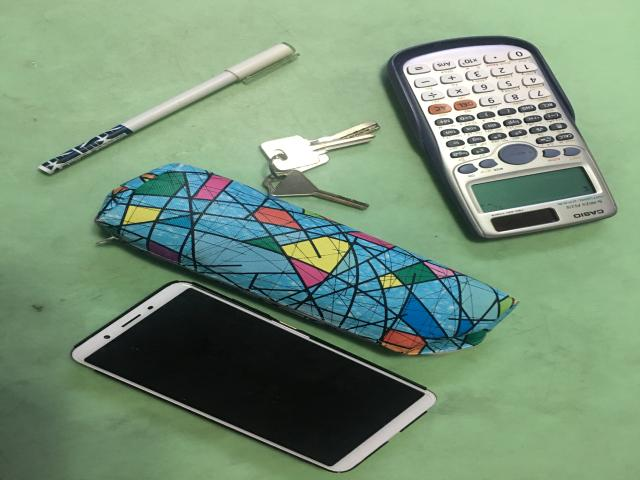Keys: (260, 121, 380, 209)
Mobile phone: (72, 281, 435, 472)
Pen: (38, 45, 298, 177)
